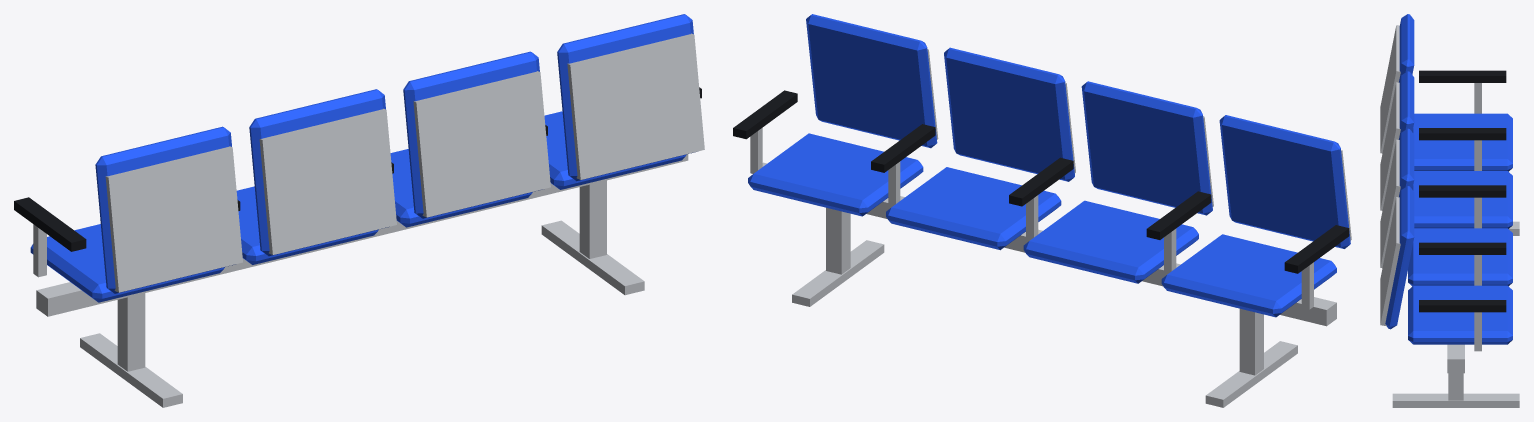
The model's file is gate_seats.glb.
3 views of the same model, side by side, from view 1: azimuth 30°, elevation 25°; view 2: azimuth 150°, elevation 25°; view 3: azimuth 270°, elevation 25° (orthographic). The views are drawn at different scales.
Parts seen in each view (by area): view 1: Cube; view 2: Cube; view 3: Cube.
Part boxes in pixels (x1=…): Cube: x1=14, y1=14, x2=704, y2=407; Cube: x1=733, y1=14, x2=1351, y2=407; Cube: x1=1380, y1=14, x2=1519, y2=407.
Size of the model in its own units: 2.58 by 0.9866 by 0.6362.
